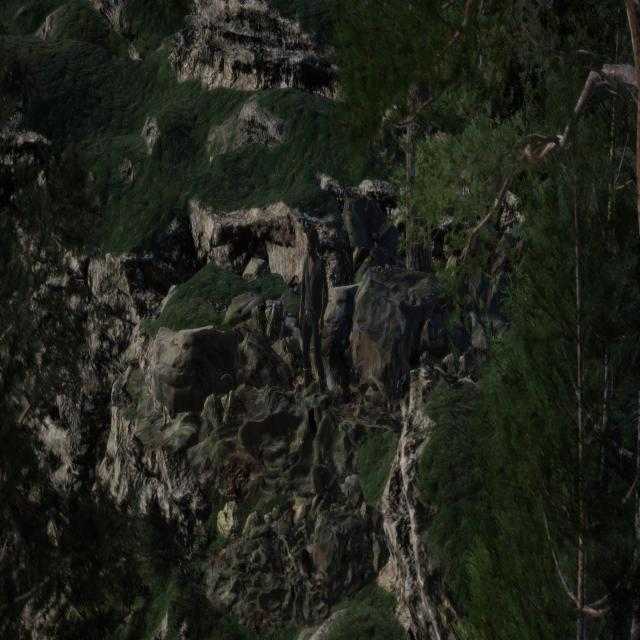Human: (296, 228, 332, 418)
